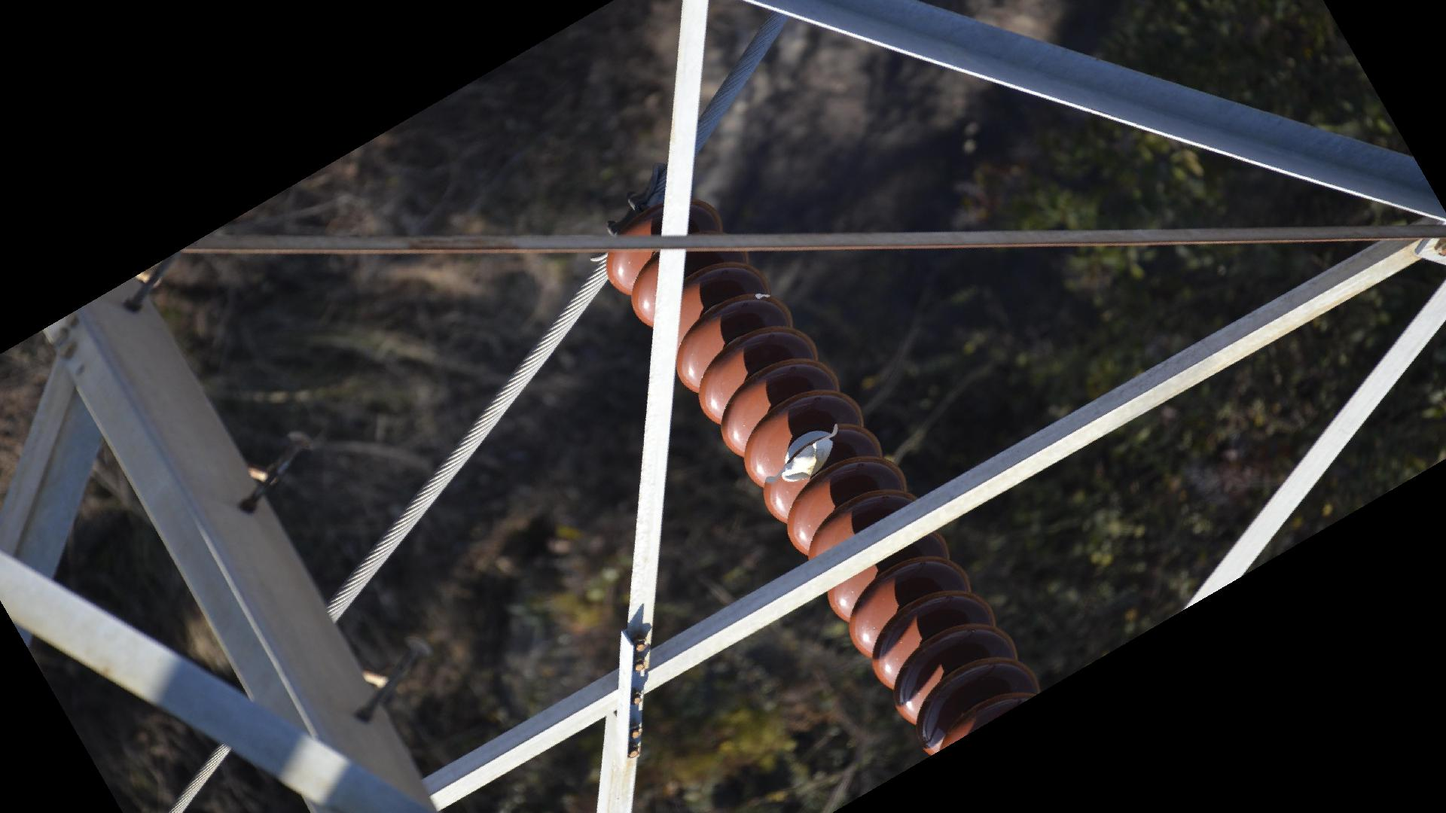insulator: (600, 193, 1054, 762)
insulator_breakage: (760, 419, 844, 491)
